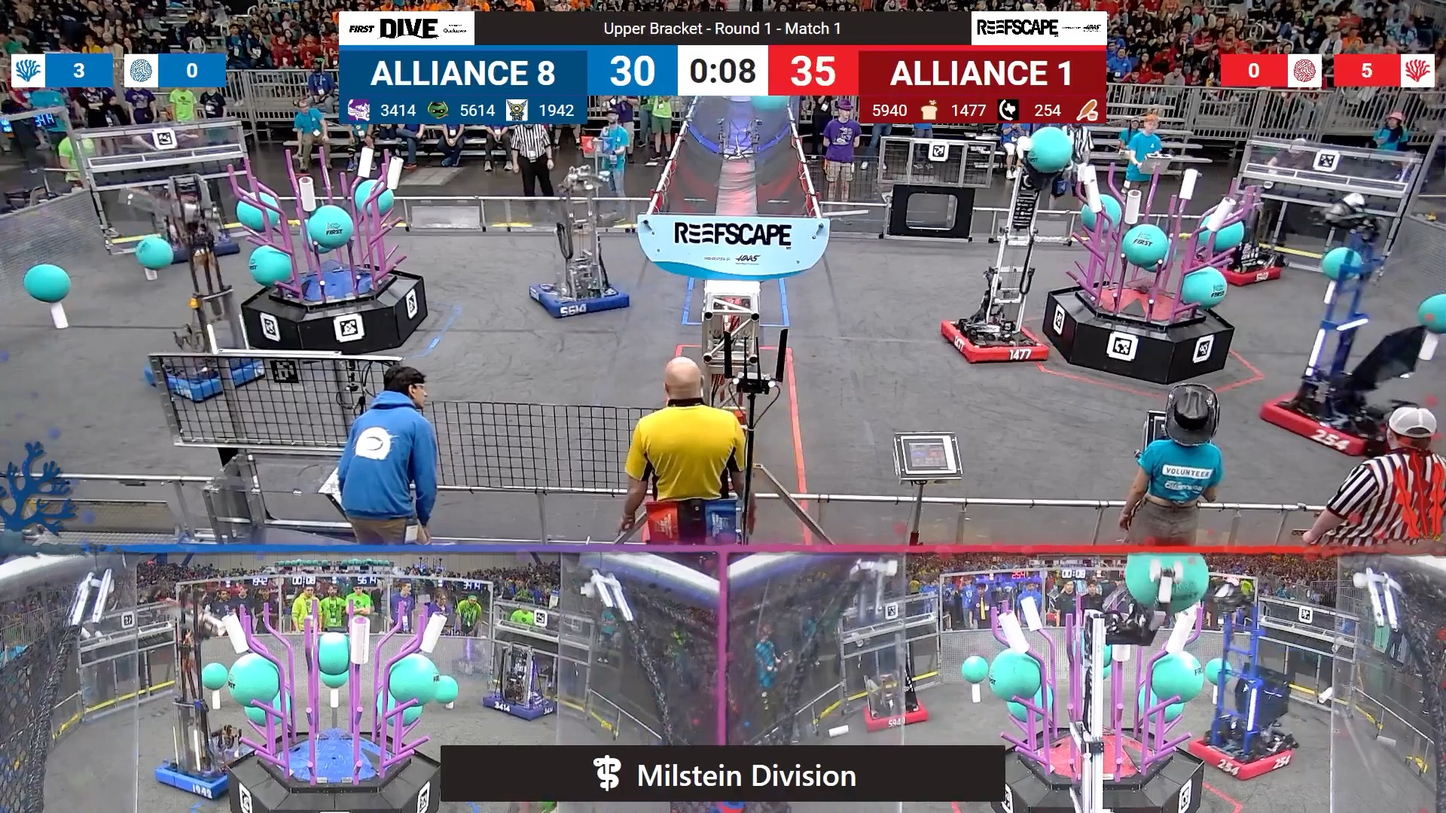bumpers: (1258, 383, 1406, 456), (155, 737, 252, 805), (935, 315, 1048, 367), (142, 358, 273, 401), (1188, 734, 1300, 780), (529, 274, 635, 320), (478, 691, 565, 726), (858, 694, 937, 727), (1207, 257, 1289, 288), (161, 231, 243, 262)
